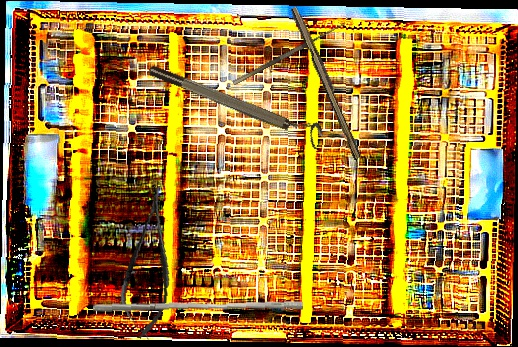Fixation Ring: (146, 54, 327, 150)
Hook Surgical: (229, 16, 346, 86)
Micro Scissor: (114, 182, 184, 342)
Pusher: (92, 293, 304, 321)
Scalpel Handle: (287, 4, 367, 161)
